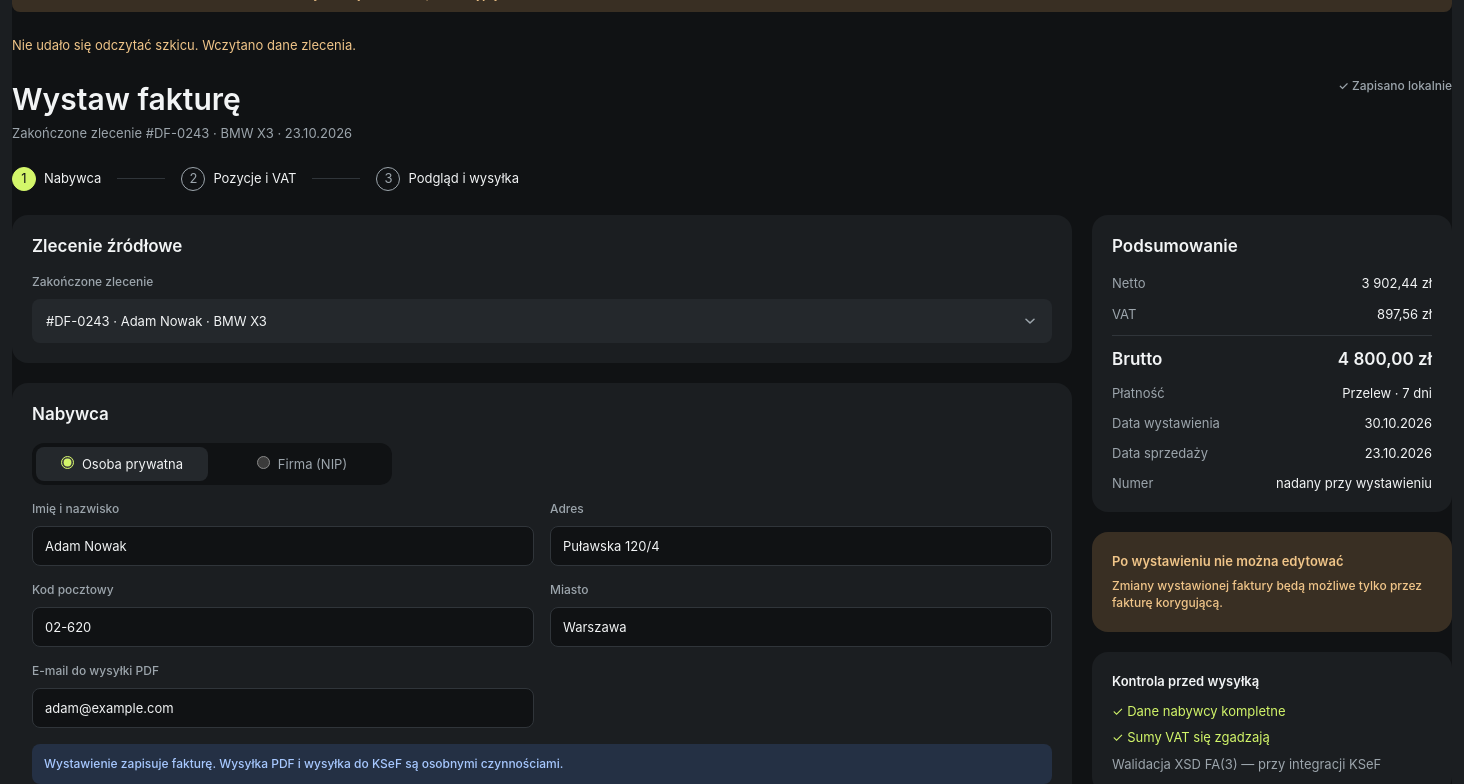
Scenario: does not let an invalid buyer bypass step one and handles a corrupt draft
Click the radio button labelled "Firma (NIP)" at [263, 462], box [257,456,270,469]
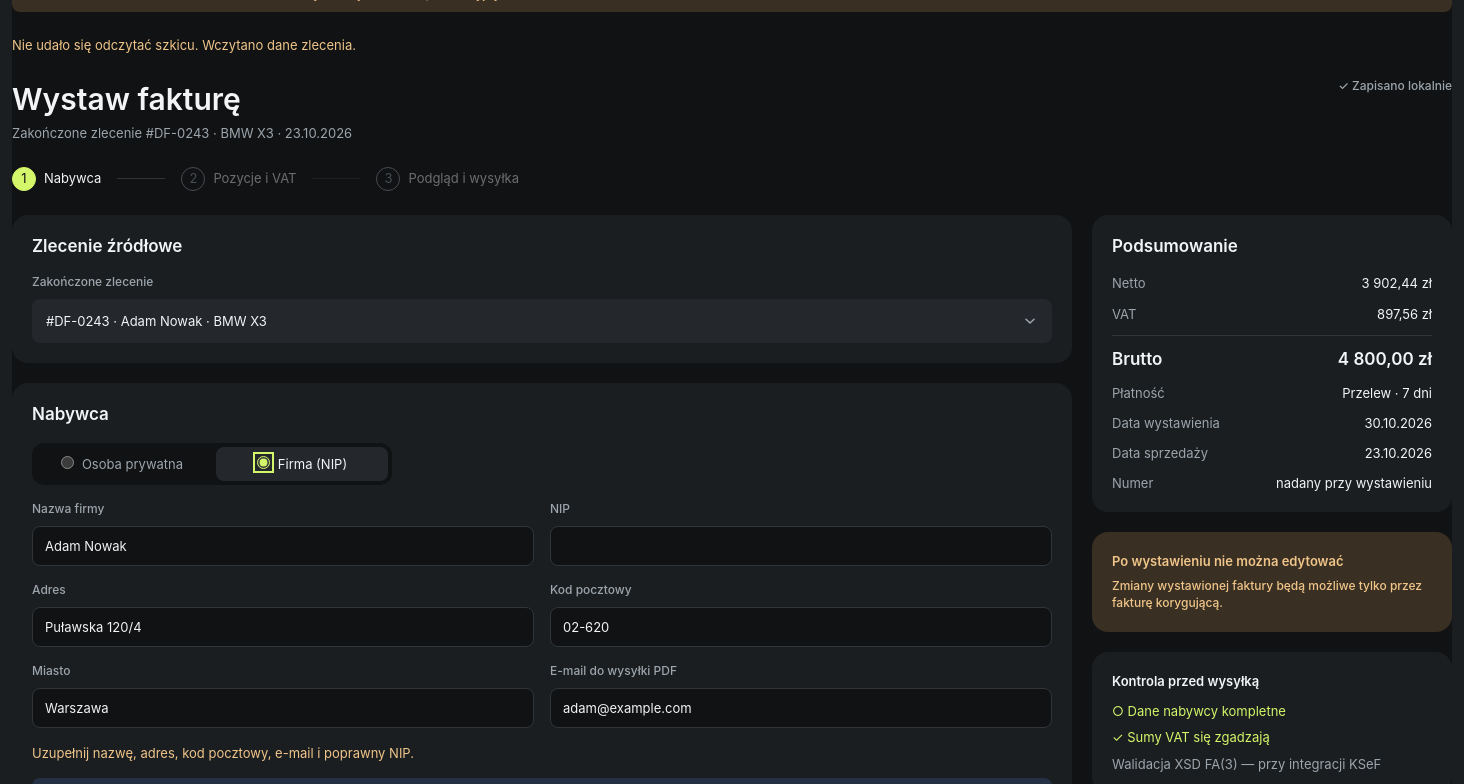
Expected: the message "Nie udało się odczytać szkicu. Wczytano dane zlecenia." is shown, [12,37,356,53]
Now the button "2 Pozycje i VAT" is disabled, box [181,167,360,191]
Type "5260250274" into the field labelled "NIP" at [801, 546], box [550,526,1052,566]
(page scrolled)
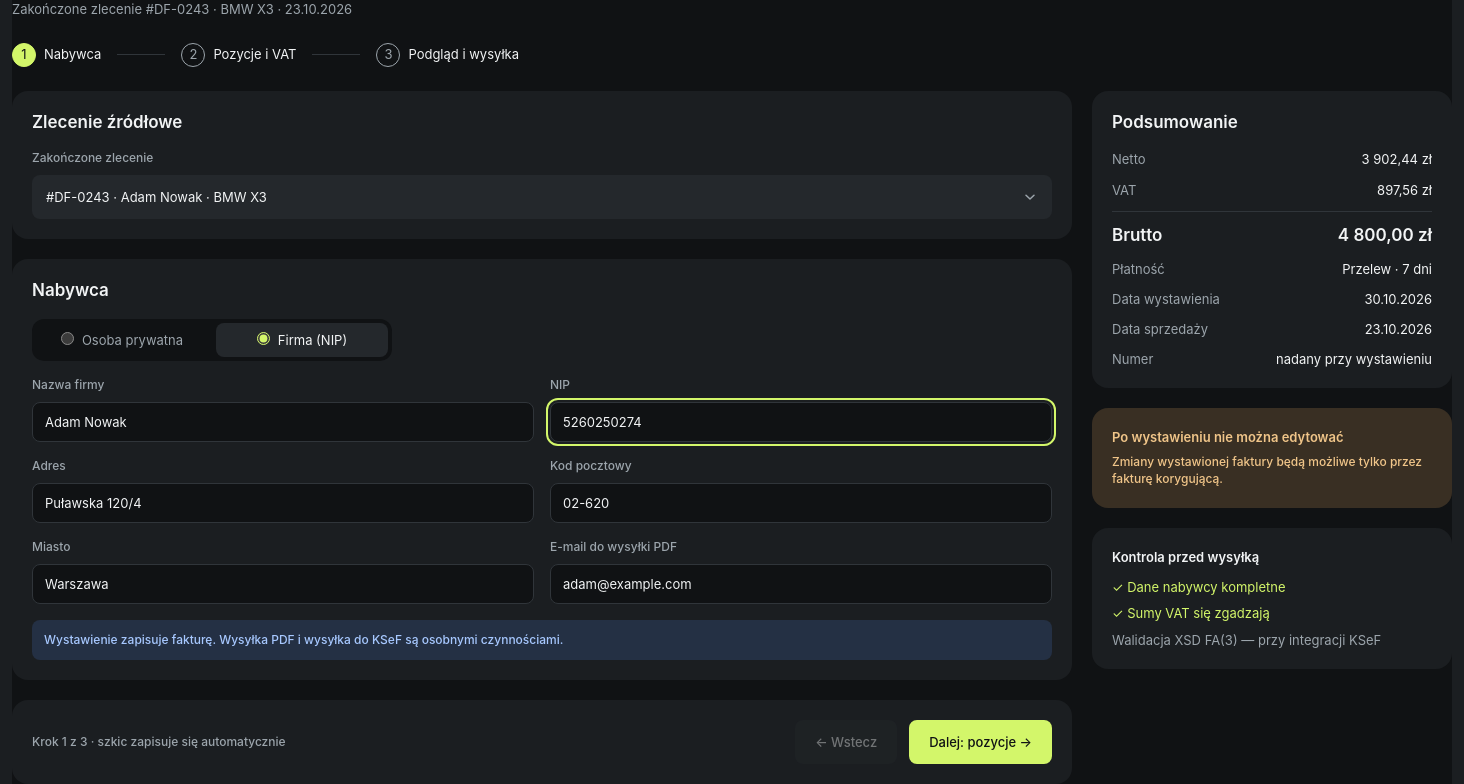
Now the button "Dalej: pozycje →" is enabled, box [909,720,1052,764]
